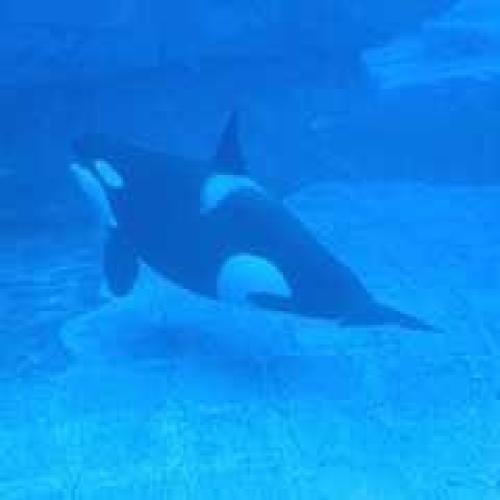killer_whale-endangered: (65, 94, 445, 350)
